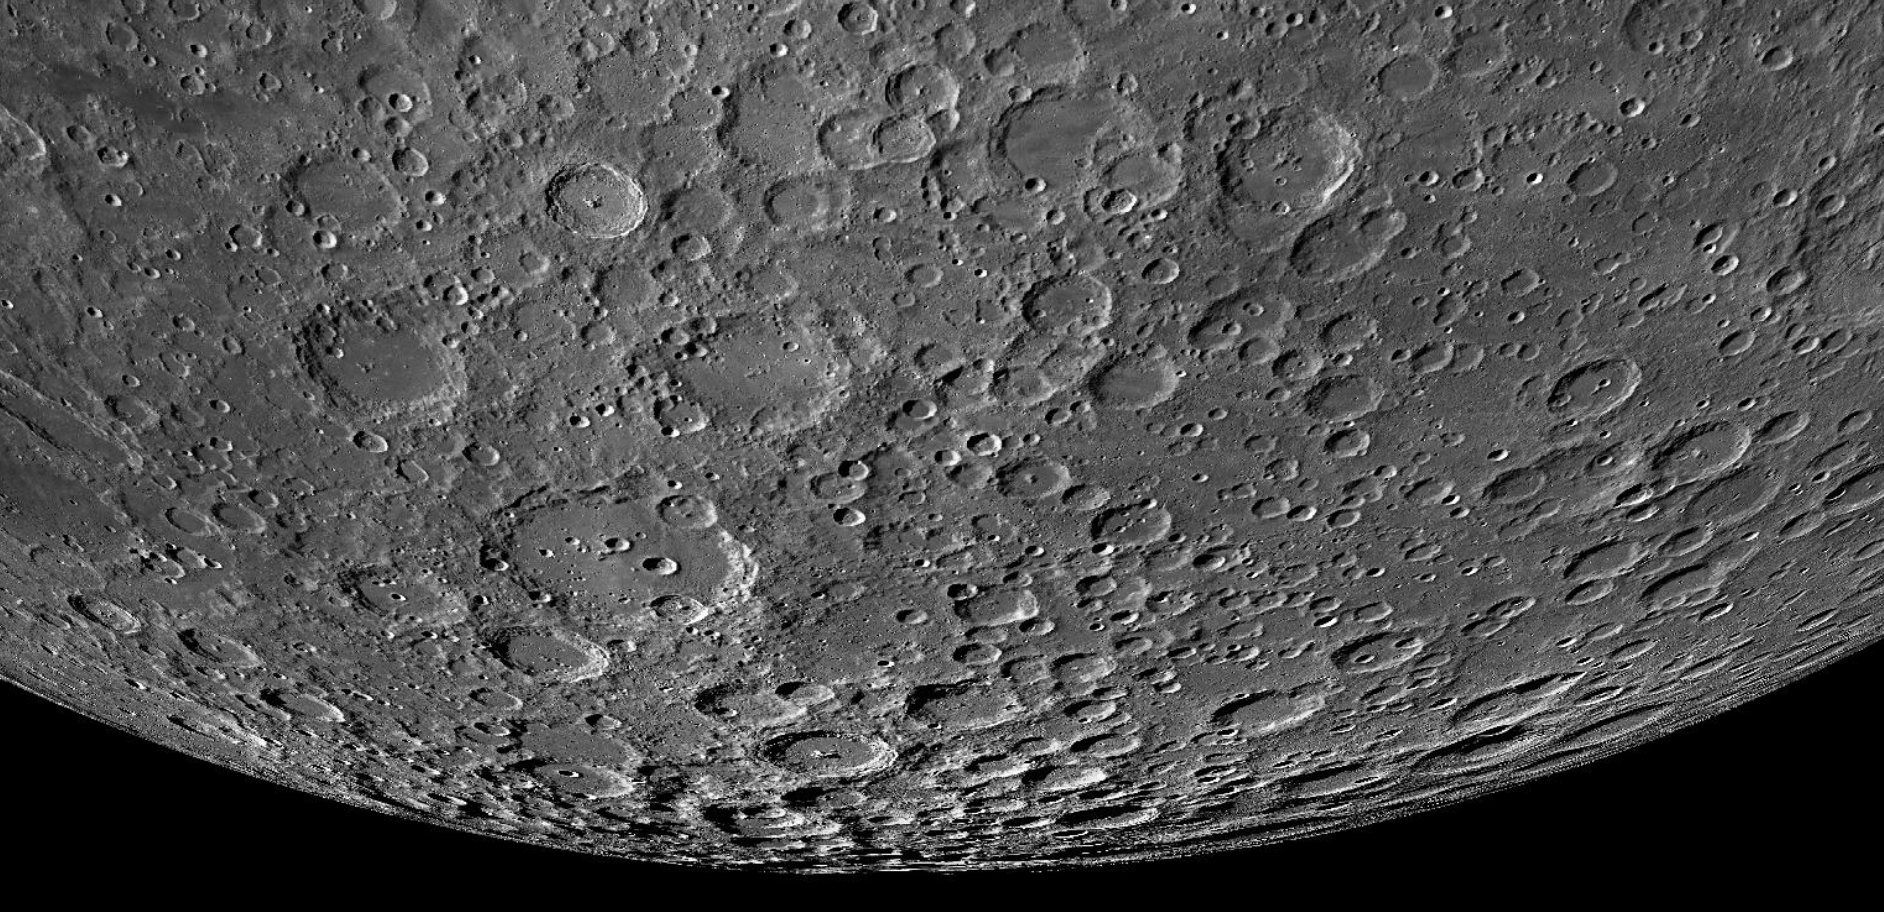crater: (260, 141, 431, 254), (524, 147, 652, 252), (1377, 715, 1560, 782), (743, 725, 906, 788), (487, 750, 642, 810), (1357, 43, 1443, 115), (65, 585, 154, 654), (239, 680, 358, 728), (1755, 250, 1831, 303), (1555, 147, 1621, 203), (324, 418, 395, 470), (199, 375, 263, 431), (1745, 38, 1810, 93), (1695, 328, 1767, 376), (819, 1, 893, 48), (455, 680, 545, 717), (1468, 416, 1525, 469), (79, 178, 138, 227), (871, 592, 940, 634), (694, 59, 751, 109), (1665, 102, 1729, 141), (582, 525, 646, 558), (892, 260, 954, 293), (634, 552, 687, 583)
